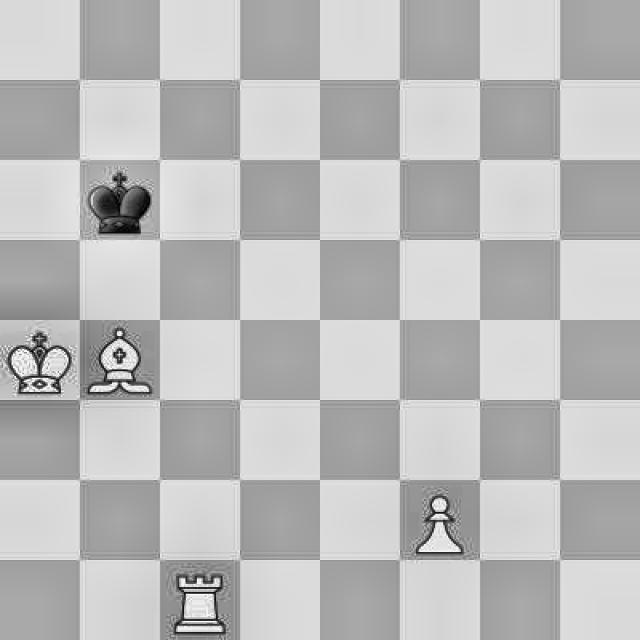black king: (83, 157, 158, 240)
white bishop: (83, 322, 155, 401)
white king: (3, 329, 79, 398)
white pawn: (403, 477, 476, 563)
white rook: (158, 565, 240, 640)
